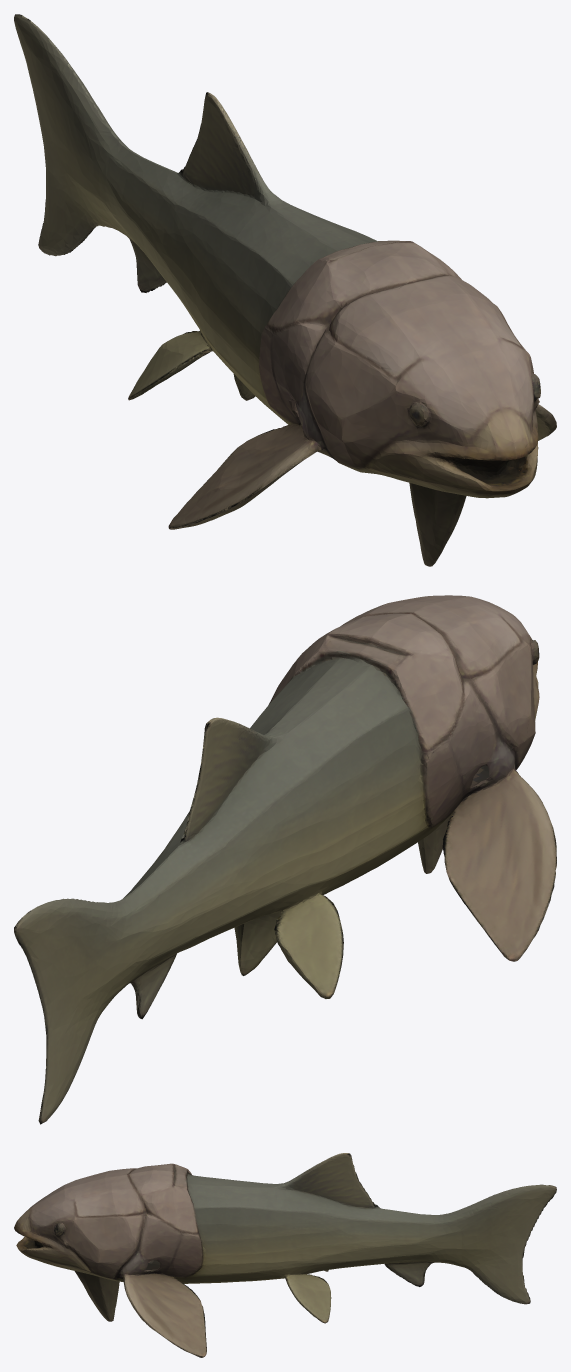
3 renders of one model, top to bottom at view 1: azimuth 30°, elevation 25°; view 2: azimuth 150°, elevation 25°; view 3: azimuth 270°, elevation 25°, orthographic. The views are drawn at different scales.
Visible parts, largest first — view 1: world; view 2: world; view 3: world.
Boxes of the visible parts, x1,y1,x2,y2 form: world: (14,14,556,566); world: (14,595,556,1124); world: (14,1153,556,1357).
Bounding box in the file's own units: 0.1423 × 0.1198 × 0.35.
1 material, 1 textured.
